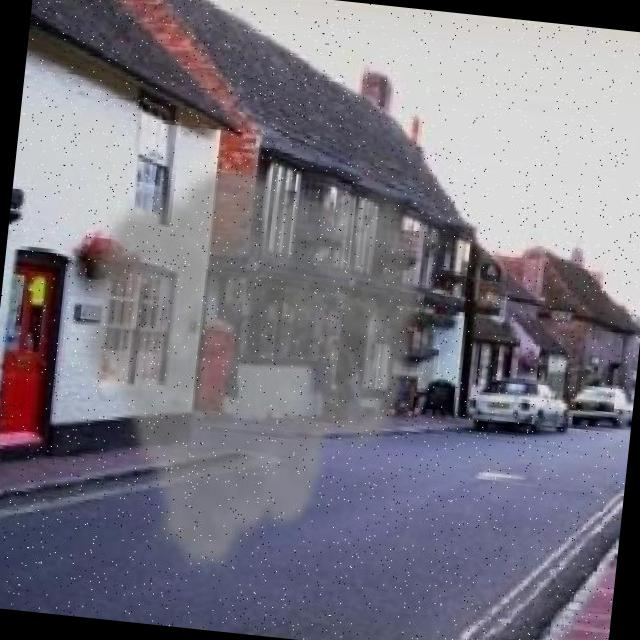Smoke: (55, 112, 447, 588)
